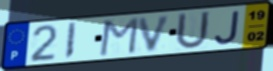2: (30, 23, 60, 63)
I: (63, 21, 78, 61)
J: (213, 9, 242, 46)
M: (97, 16, 141, 58)
U: (174, 10, 212, 51)
V: (137, 14, 174, 54)
